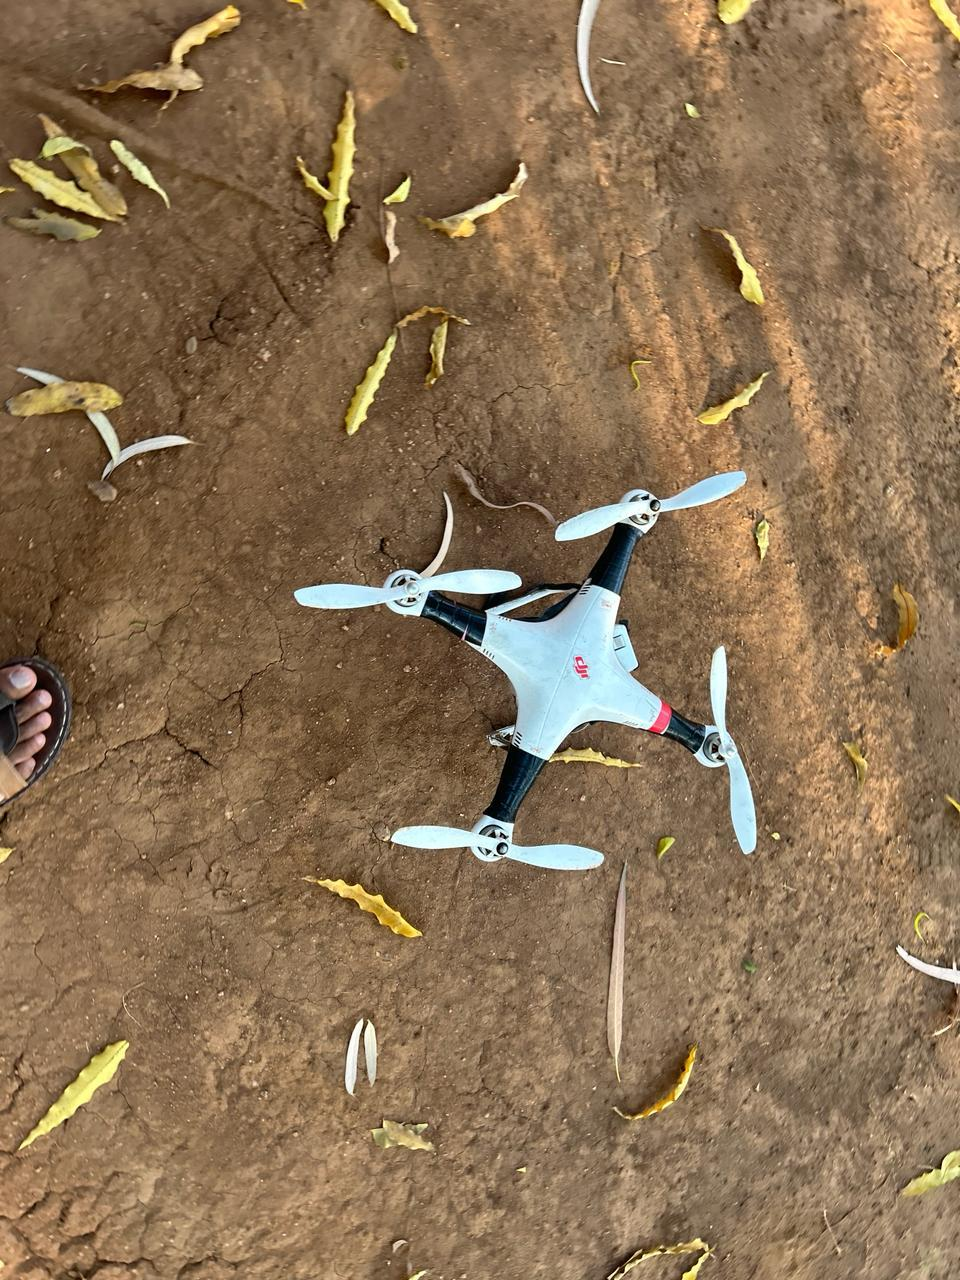drone: (211, 391, 943, 997)
